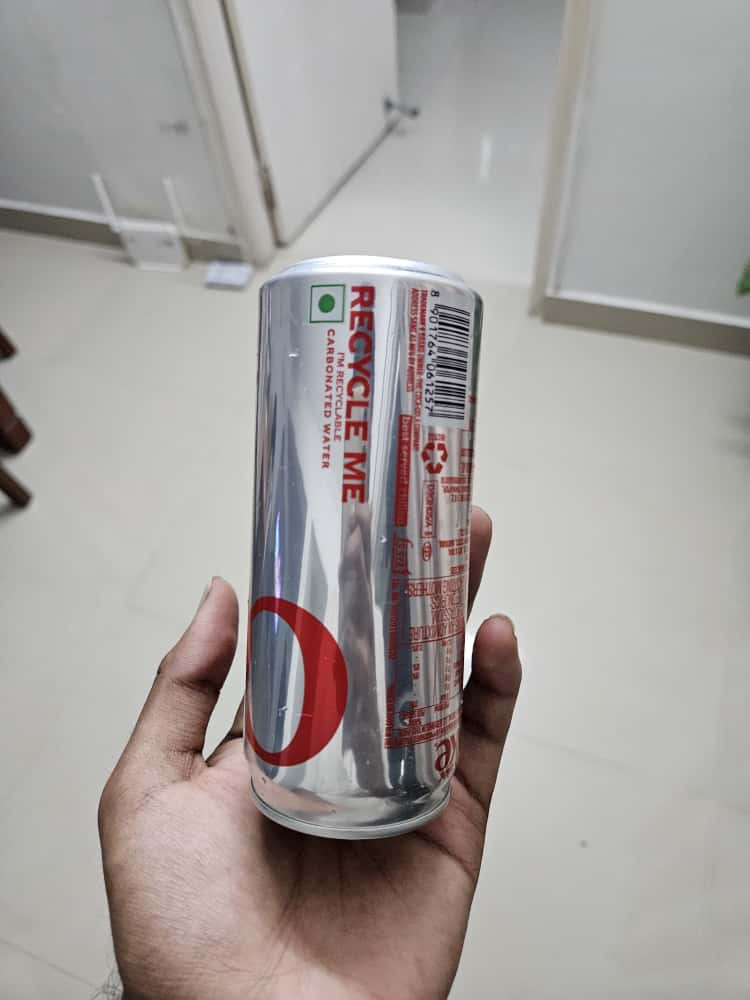dry: (238, 256, 490, 856)
